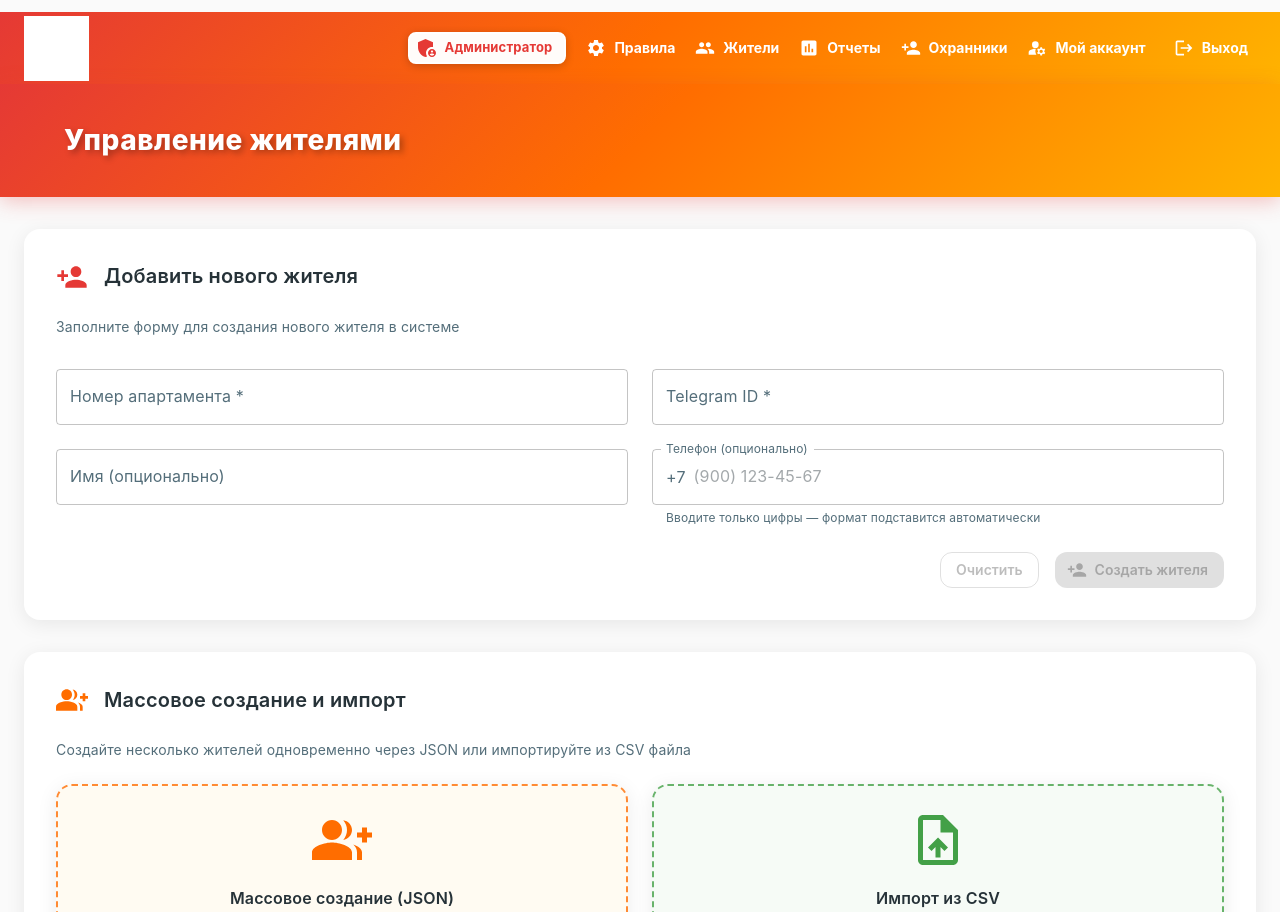
Test case: AdminResidentsPage › create form › shows phone validation error for incomplete digits
This screenshot has width=1280, height=912.
In the field labelled "Номер апартамента *": {"x": 342, "y": 397} 56,369 -> 628,425, type "201"
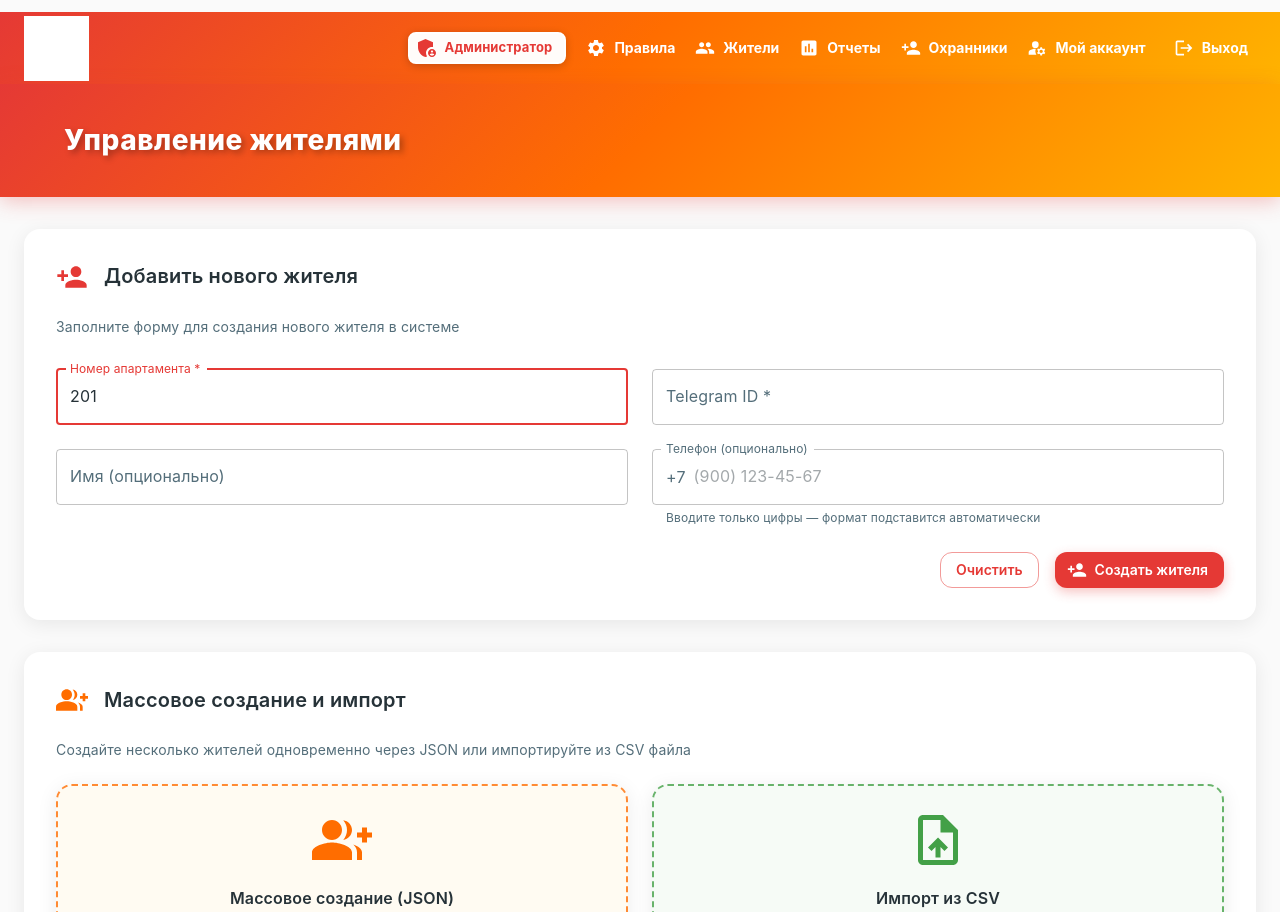
In the number field labelled "Telegram ID *": {"x": 938, "y": 397} 652,369 -> 1224,425, type "999888777"
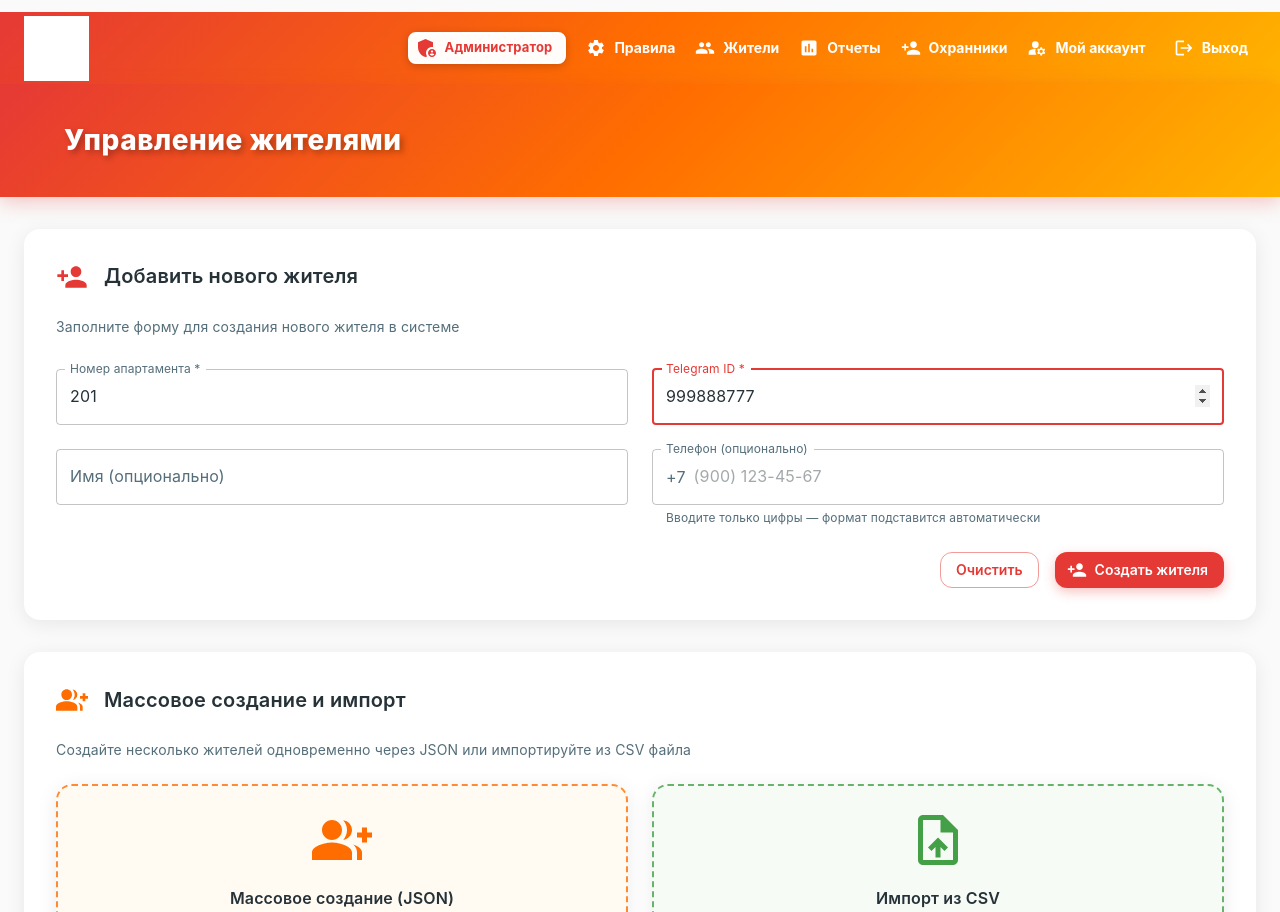
# Six digits are enough to render the mask but not enough for a full NSN.
In the field labelled "Телефон (опционально)": {"x": 959, "y": 477} 694,449 -> 1224,505, type "900123"
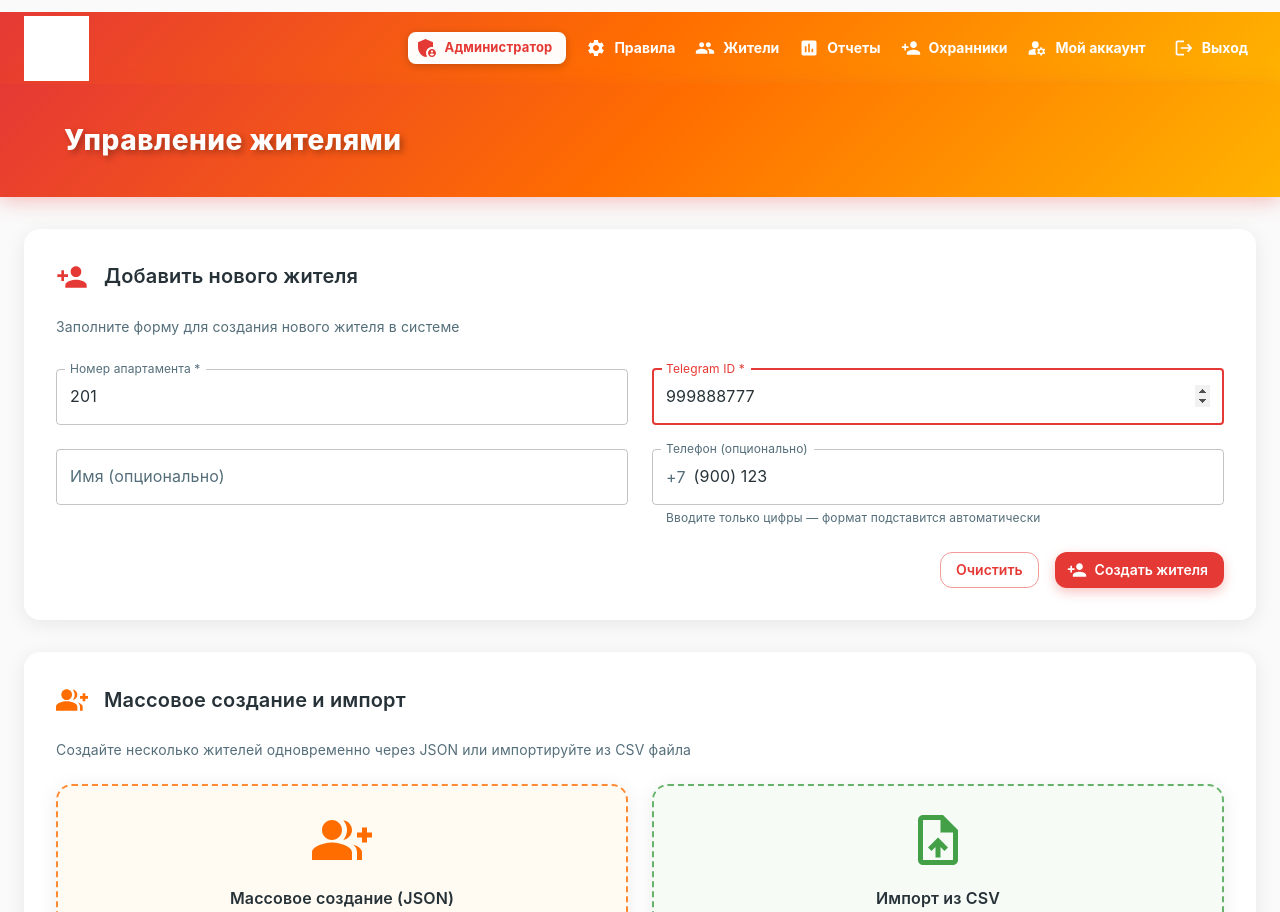
Click the button "Создать жителя": {"x": 1139, "y": 570} 1055,552 -> 1224,588
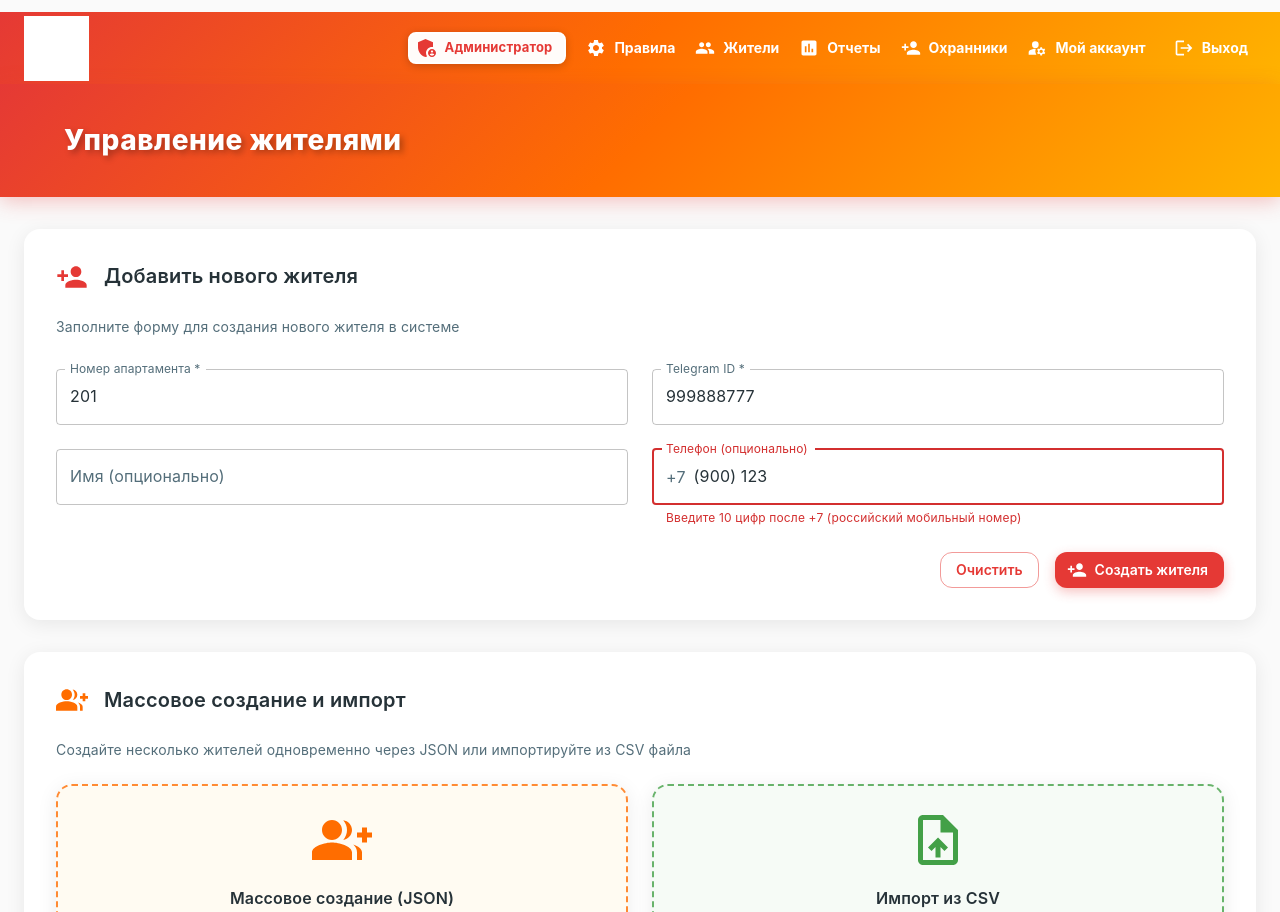
Now the text "Введите 10 цифр после +7 (российский мобильный номер)" is shown, box 666,510 -> 1022,525
